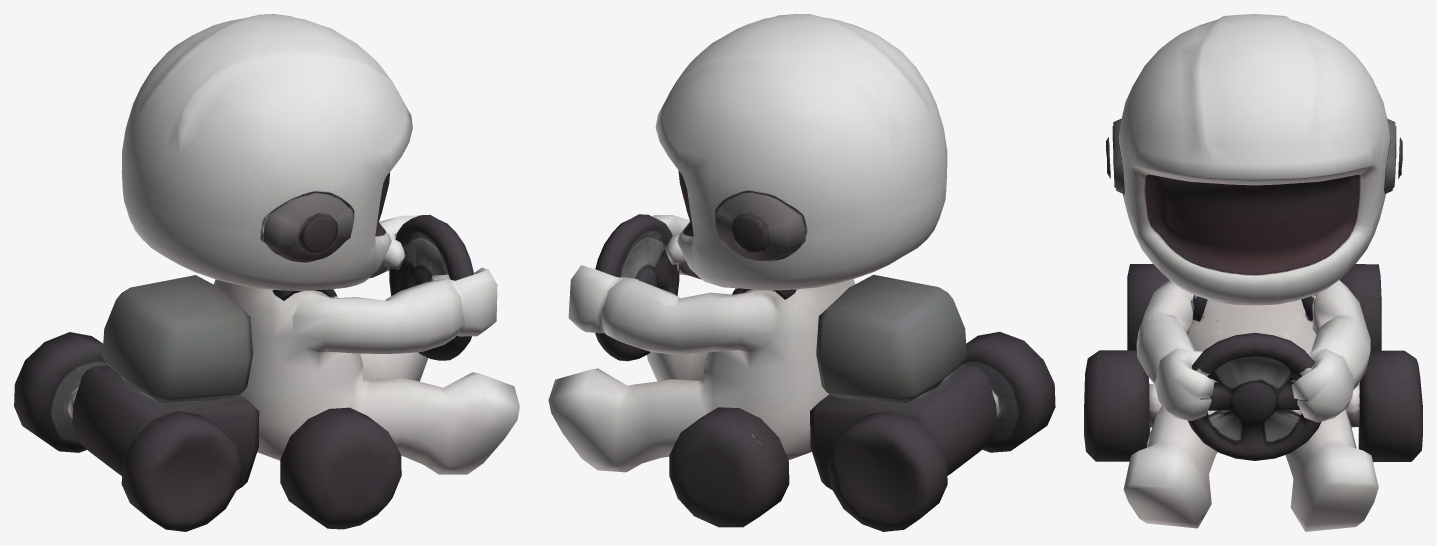
File: driver.glb
3 views of the same model, side by side, from view 1: azimuth 30°, elevation 25°; view 2: azimuth 150°, elevation 25°; view 3: azimuth 270°, elevation 25° (orthographic). The views are drawn at different scales.
Parts seen in each view (by area): view 1: tripo_node_15e917eb-9abc-4f13-9063-9aafe272caaf; view 2: tripo_node_15e917eb-9abc-4f13-9063-9aafe272caaf; view 3: tripo_node_15e917eb-9abc-4f13-9063-9aafe272caaf.
Boxes of the visible parts, x1=… form: tripo_node_15e917eb-9abc-4f13-9063-9aafe272caaf: x1=14, y1=14, x2=519, y2=531; tripo_node_15e917eb-9abc-4f13-9063-9aafe272caaf: x1=548, y1=14, x2=1055, y2=531; tripo_node_15e917eb-9abc-4f13-9063-9aafe272caaf: x1=1084, y1=14, x2=1422, y2=531.
Size of the model in its own units: 0.9355 by 0.998 by 0.7207.
1 material, 1 textured.
